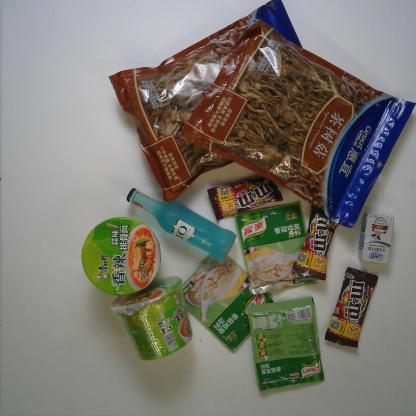Alcohol: (122, 178, 238, 262)
Chocolate: (322, 262, 376, 357), (291, 198, 342, 283), (207, 168, 280, 222)
Dried Food: (188, 20, 413, 230), (109, 9, 319, 195)
Instant Noodles: (76, 212, 179, 302), (110, 268, 199, 367)
Milk: (354, 205, 396, 268)
Seasoner: (179, 247, 270, 356), (234, 200, 330, 294), (244, 293, 324, 392)
